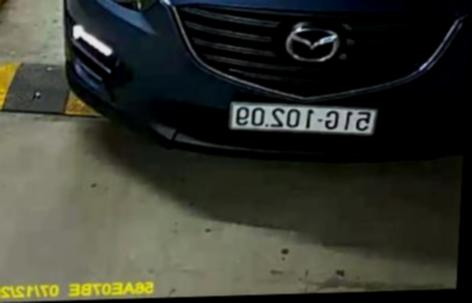License_Plate: (214, 98, 383, 141)
